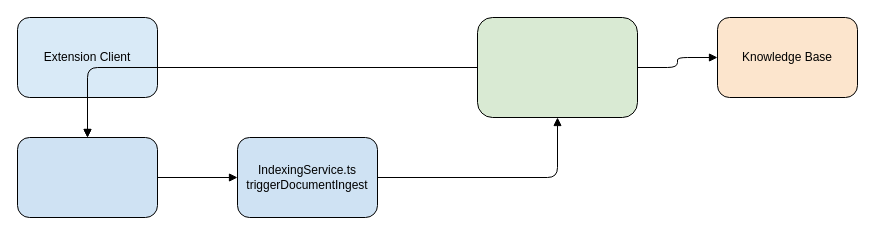
The diagram is 875 pixels wide and 235 high, and some of its shapes have lost their labels. The shapes that lost their labels are listed below. From the top down, each one's box as (x1, y1, x2, y2) in pixels, then its label:
(476, 16, 638, 118): api-index.ts Backend Route
(16, 136, 158, 218): IndexerHttpClient.ts httpPostWithDetail
